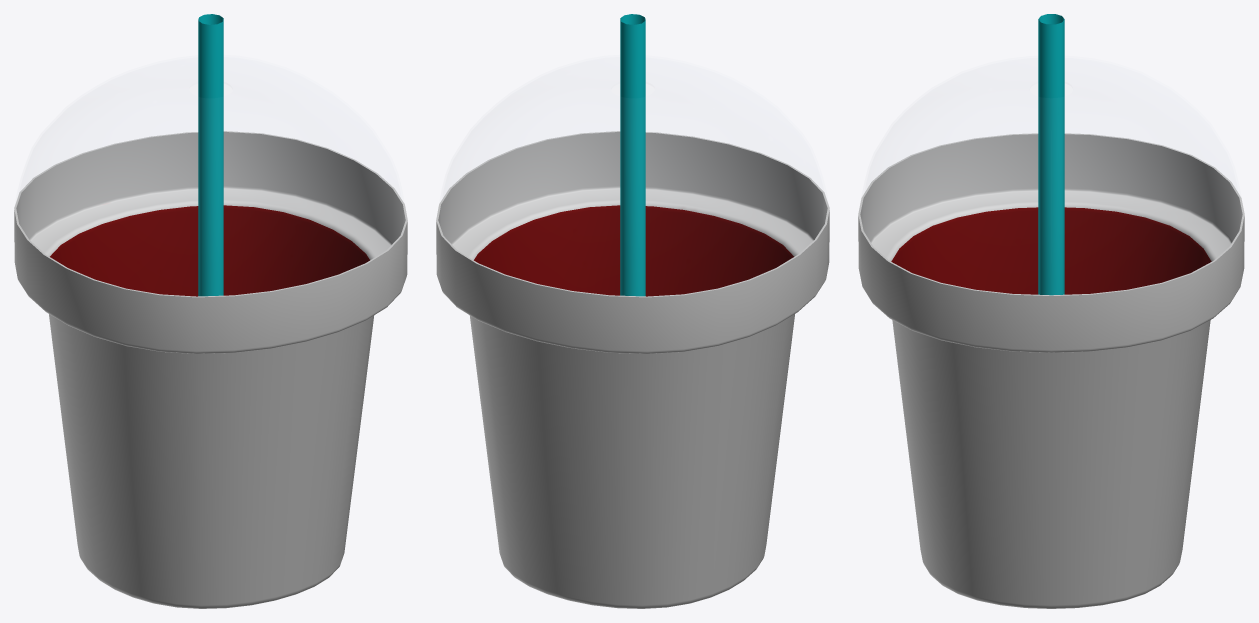
Rendered from Smoothie.glb.
3 views of the same model, side by side, from view 1: azimuth 30°, elevation 25°; view 2: azimuth 150°, elevation 25°; view 3: azimuth 270°, elevation 25° (orthographic).
Visible parts, largest first — view 1: cup, tube.001; view 2: cup, tube.001; view 3: cup, tube.001.
Part boxes in pixels (x1=…): cup: x1=14, y1=131, x2=407, y2=608; tube.001: x1=198, y1=14, x2=223, y2=296; cup: x1=436, y1=131, x2=829, y2=608; tube.001: x1=620, y1=14, x2=645, y2=296; cup: x1=858, y1=133, x2=1244, y2=608; tube.001: x1=1038, y1=14, x2=1064, y2=295.
Bounding box in the file's own units: 1.83 × 2.8 × 1.83.
Materials: 1 (1 with a texture image).
